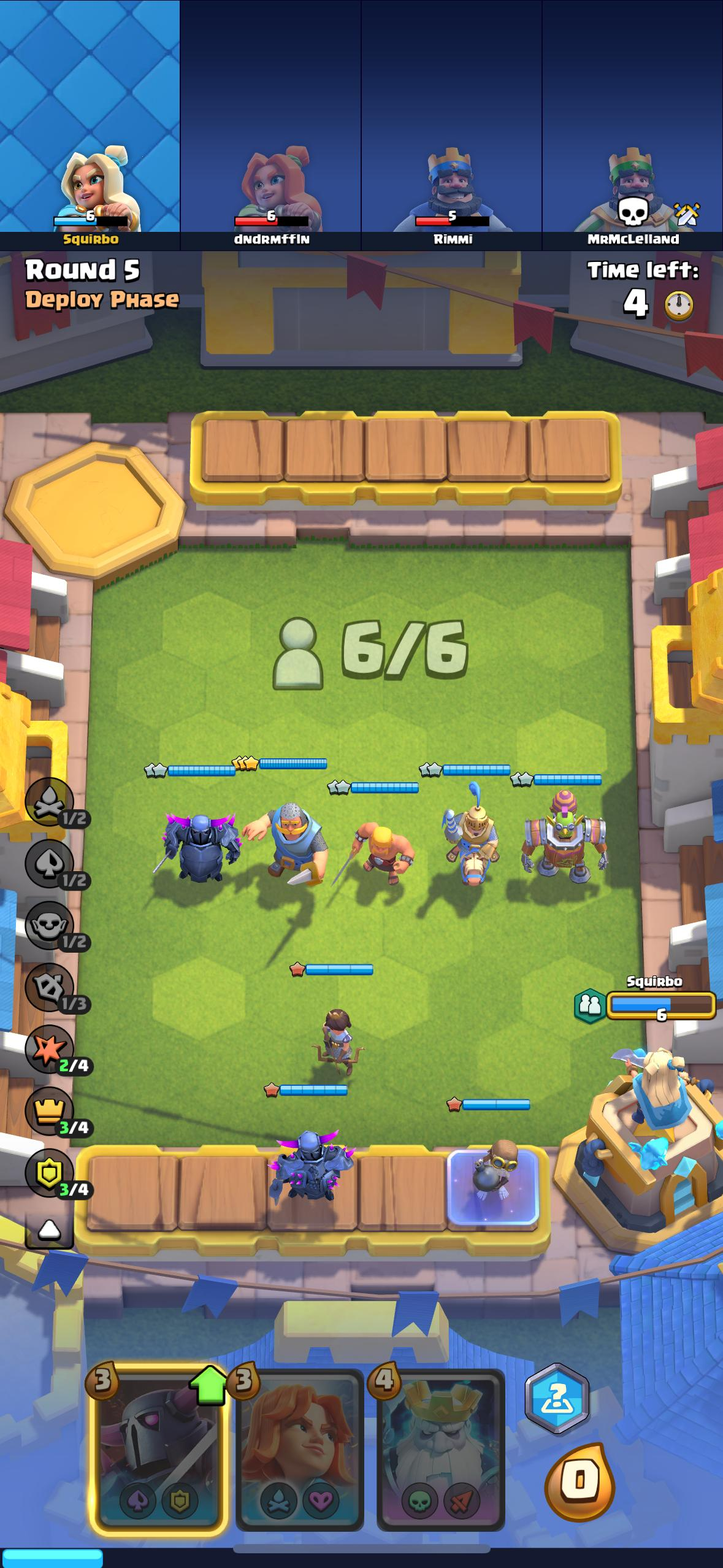barbarian: (338, 813, 417, 896)
bomber: (468, 1136, 524, 1207)
hand-ghost: (379, 1372, 503, 1528)
hand-pekka: (95, 1369, 224, 1529)
hand-valkyrie: (231, 1368, 363, 1531)
knight: (245, 796, 332, 894)
machine: (522, 794, 610, 902)
pekka: (265, 1122, 358, 1219), (160, 806, 240, 896)
prince: (440, 790, 507, 891)
princess: (312, 1003, 368, 1080)
upgrade: (190, 1364, 231, 1409)
